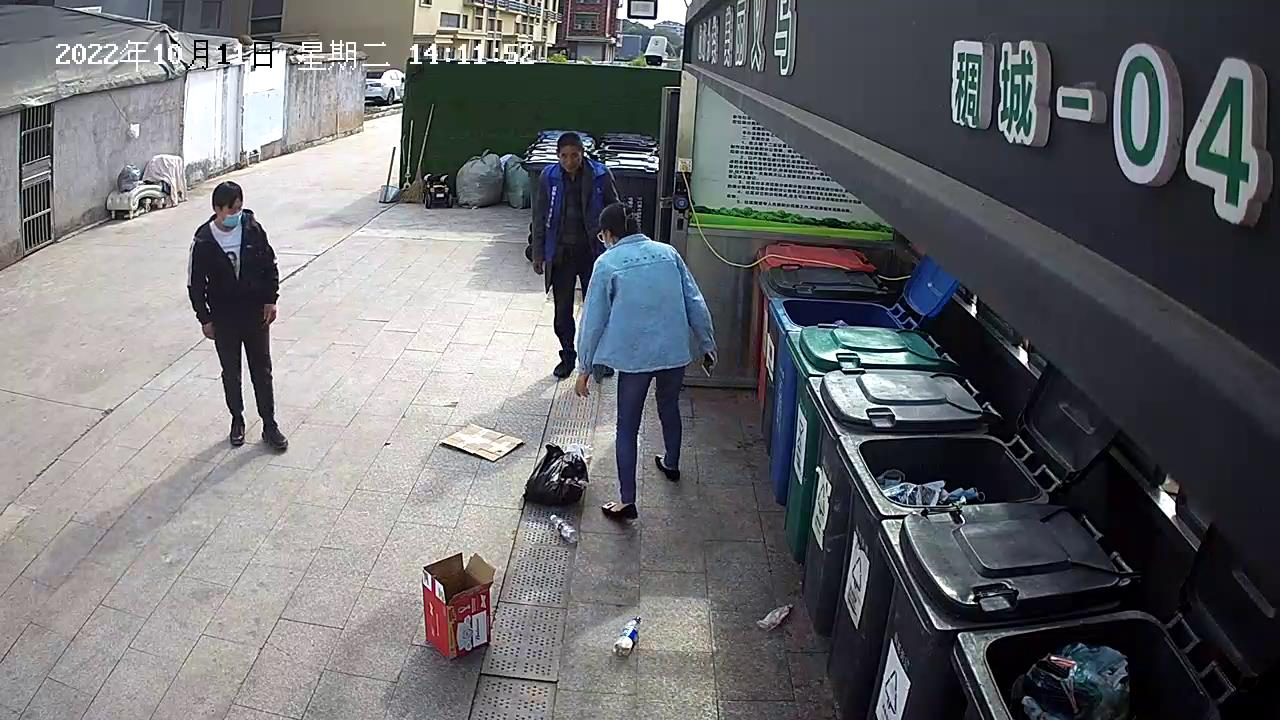garbage-bag: (521, 439, 595, 514)
person: (182, 179, 289, 454)
suliaozhipin: (611, 613, 643, 660), (547, 507, 581, 548), (754, 600, 796, 633)
worker: (572, 200, 721, 522), (529, 130, 625, 379)
zhizhipin: (419, 549, 499, 665), (438, 421, 525, 464)
